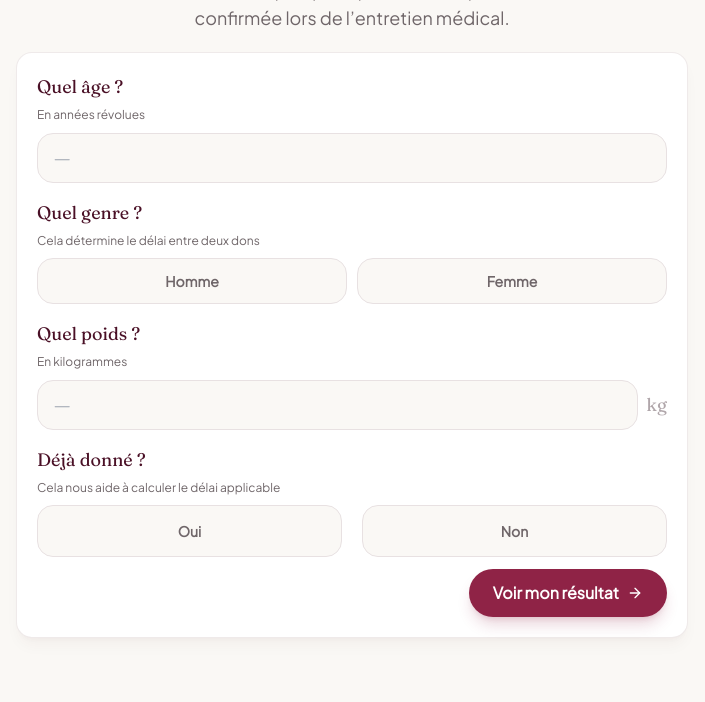
EligibilitySimulator › affiche une erreur si le formulaire est soumis vide
The width and height of the screenshot is (705, 702).
(page scrolled)
Step 1. Click the button "Voir mon résultat" → coordinates (568, 593), box [469,569,667,617]
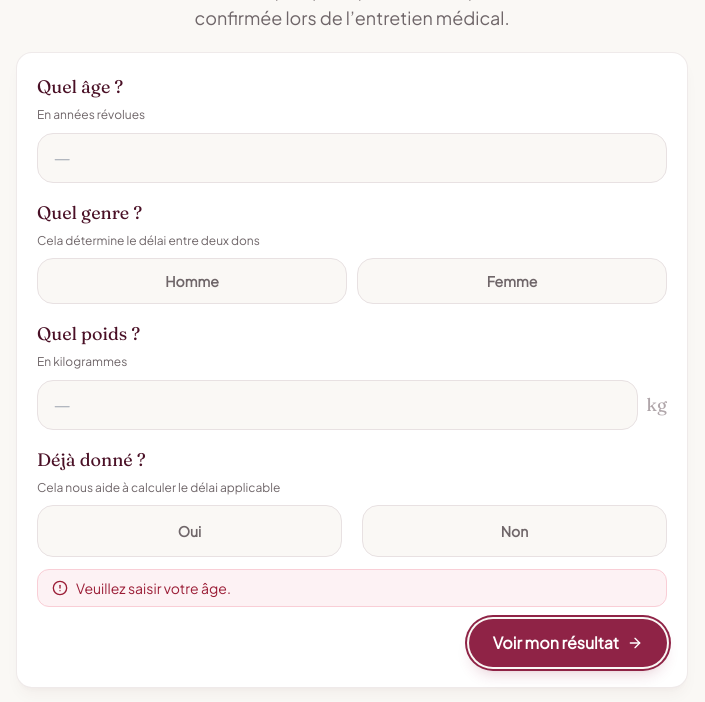
expect the message shows "Veuillez saisir votre âge": met, box [76,579,231,597]
